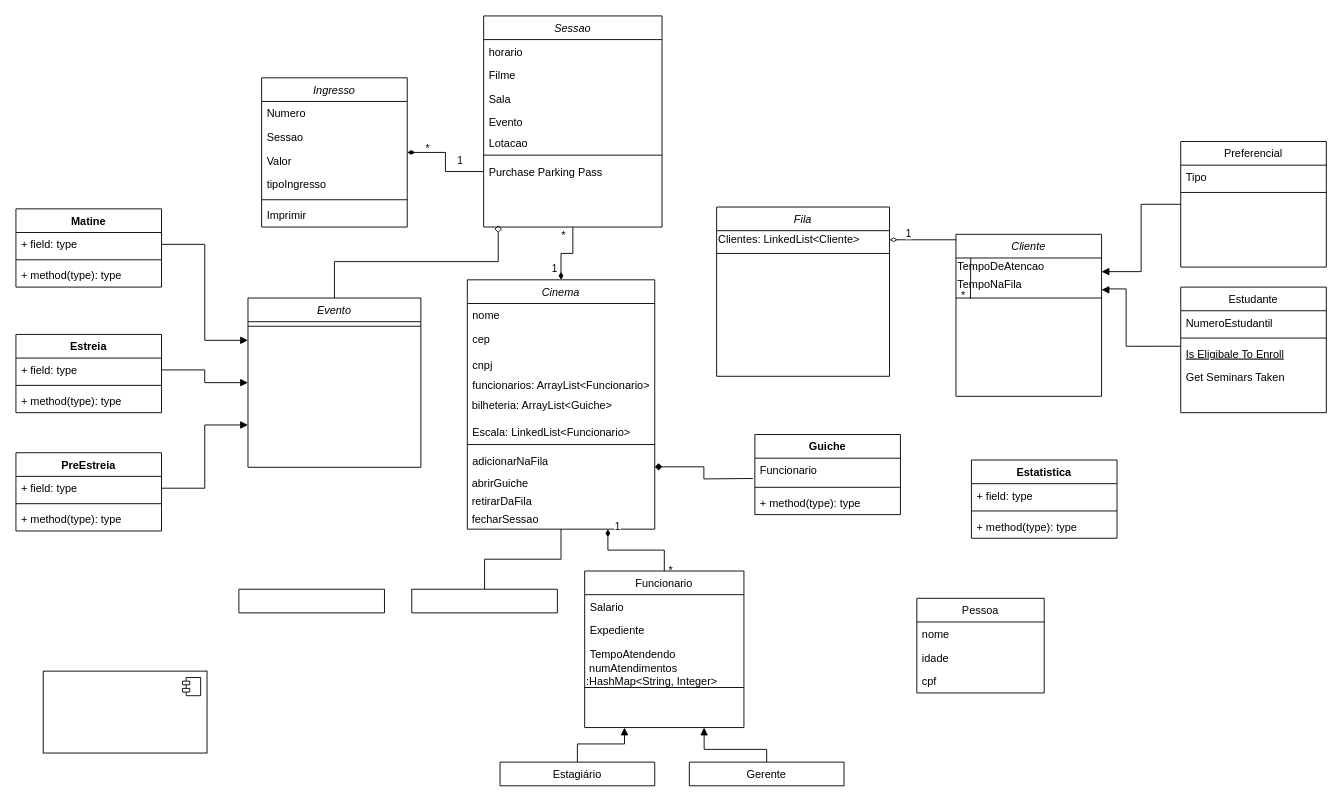
This 1342x802 diagram has some shape labels left out. The shapes that lost their labels are listed below. From the top down, each one's centre as x and y in pixels, then its label:
the point at 311,600: Arquivo
the point at 484,600: Interface
the point at 124,711: «Annotation» Variáveis Globais: quantGuiches limGuiche
